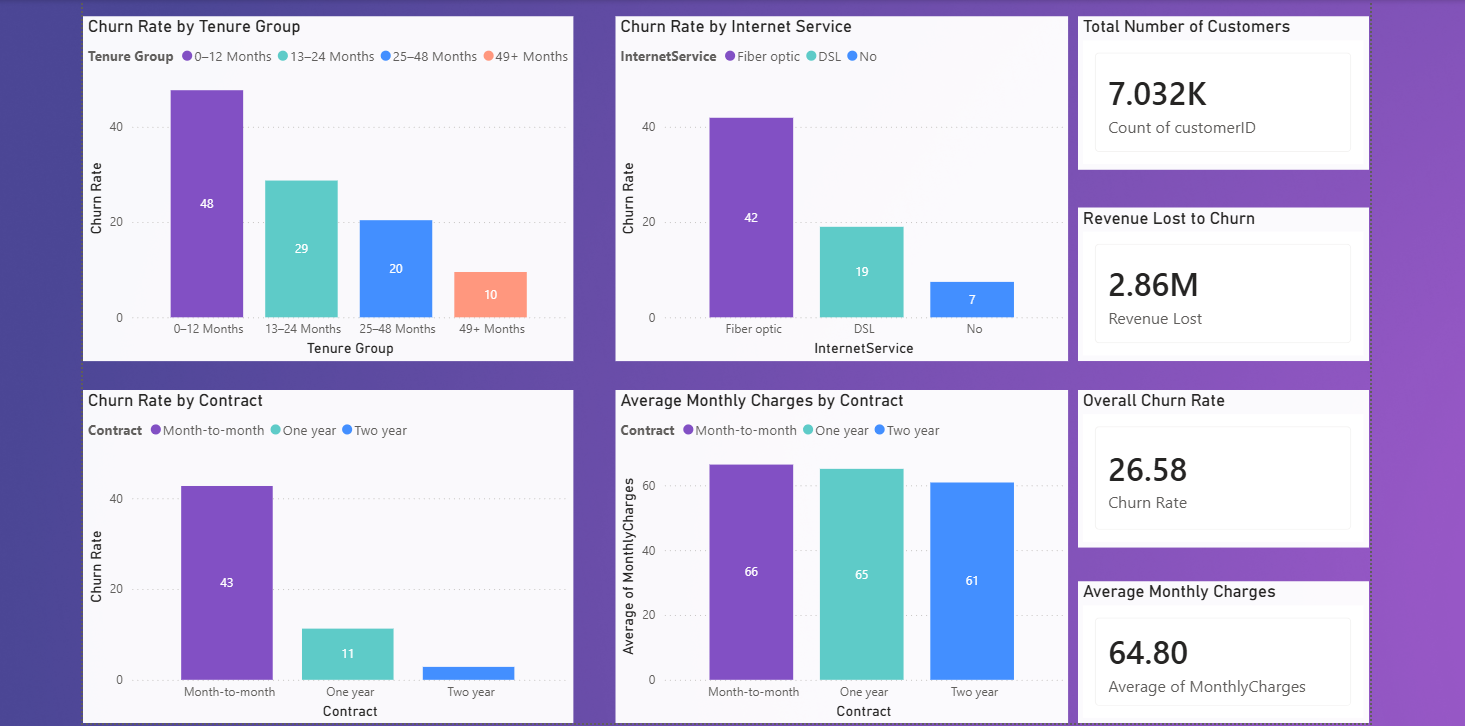

What the dashboard file says about the page in this screenshot:
{"tool":"powerbi","page":{"name":"KPI Dashboard","canvas":[1280,720],"ordinal":0},"visuals":[{"type":"cardVisual","title":"Total Number of Customers","fields":{"Data":["Count(telco churn.customerID)"]},"box":[990.2,16.2,289.8,153],"z":0},{"type":"columnChart","title":"Churn Rate by Contract ","fields":{"Category":["telco churn.Contract"],"Y":["telco churn.Churn Rate"],"Series":["telco churn.Contract"]},"box":[0,388.1,487.6,332.1],"z":1000},{"type":"columnChart","title":"Average Monthly Charges by Contract","fields":{"Category":["telco churn.Contract"],"Y":["Avg(telco churn.MonthlyCharges)"],"Series":["telco churn.Contract"]},"box":[529.9,388.1,450.3,332.1],"z":2000},{"type":"cardVisual","title":"Overall Churn Rate","fields":{"Data":["telco churn.Churn Rate"]},"box":[990.2,388.1,289.8,156.7],"z":3000},{"type":"cardVisual","title":"Average Monthly Charges","fields":{"Data":["Avg(telco churn.MonthlyCharges)"]},"box":[990.2,578.4,289.8,141.8],"z":4000},{"type":"cardVisual","title":"Revenue Lost to Churn","fields":{"Data":["telco churn.Revenue Lost"]},"box":[990.2,206.5,289.8,153],"z":5000},{"type":"columnChart","title":"Churn Rate by Tenure Group","fields":{"Y":["telco churn.Churn Rate"],"Category":["telco churn.Tenure Group"],"Series":["telco churn.Tenure Group"]},"box":[0,16.2,487.6,343.3],"z":6000},{"type":"columnChart","title":"Churn Rate by Internet Service","fields":{"Y":["telco churn.Churn Rate"],"Category":["telco churn.InternetService"],"Series":["telco churn.InternetService"]},"box":[529.9,16.2,450.3,343.3],"z":7000}]}

Visuals, with their boxes in screenshot pixels (x1, y1, x2, y2):
"Total Number of Customers" cardVisual: l=1071, t=16, r=1359, b=168
"Churn Rate by Contract " columnChart: l=88, t=385, r=572, b=715
"Average Monthly Charges by Contract" columnChart: l=614, t=385, r=1061, b=715
"Overall Churn Rate" cardVisual: l=1071, t=385, r=1359, b=541
"Average Monthly Charges" cardVisual: l=1071, t=574, r=1359, b=715
"Revenue Lost to Churn" cardVisual: l=1071, t=205, r=1359, b=357
"Churn Rate by Tenure Group" columnChart: l=88, t=16, r=572, b=357
"Churn Rate by Internet Service" columnChart: l=614, t=16, r=1061, b=357
